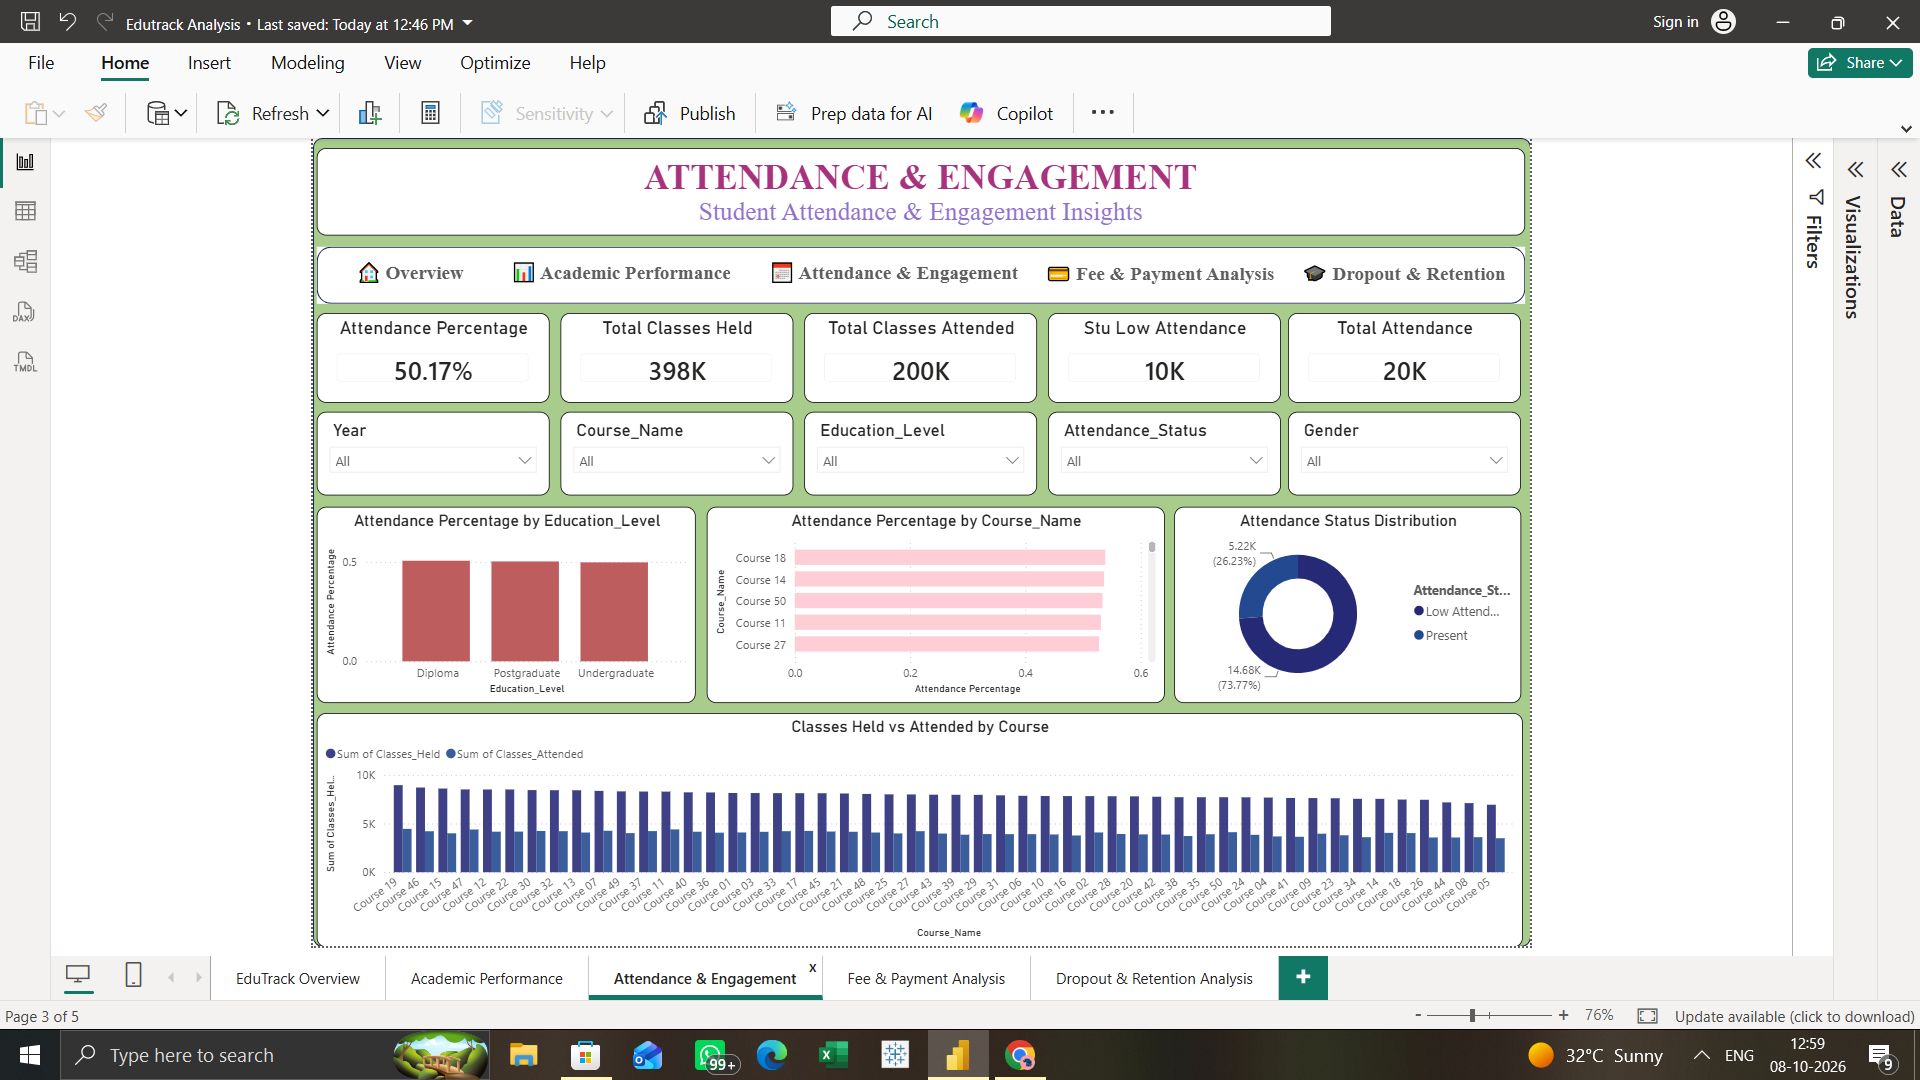

The page's visual inventory and layout, read from the dashboard file:
{"tool":"powerbi","page":{"name":"Attendance & Engagement","canvas":[1280,850],"ordinal":2},"visuals":[{"type":"shape","box":[0,0,1280.4,850.3],"z":0},{"type":"textbox","box":[3.6,10.9,1270.4,91.7],"z":1000},{"type":"shape","box":[4.3,113.9,1270.4,59.8],"z":2000},{"type":"actionButton","box":[0,113.9,205.1,49.8],"z":3000},{"type":"actionButton","box":[196.5,113.9,253.5,49.8],"z":4000},{"type":"actionButton","box":[470,113.9,280.6,49.8],"z":5000},{"type":"actionButton","box":[762,119.6,256.4,42.7],"z":6000},{"type":"actionButton","box":[1018.4,118.2,256.4,45.6],"z":7000},{"type":"cardVisual","title":"Attendance Percentage","fields":{"Data":["DateTable.Attendance Percentage"]},"box":[4.3,183.7,245,94],"z":8000},{"type":"cardVisual","title":"Total Classes Held","fields":{"Data":["DateTable.Total Classes"]},"box":[260.6,183.7,245,94],"z":9000},{"type":"cardVisual","title":"Total Classes Attended","fields":{"Data":["DateTable.Total Attended"]},"box":[517,183.7,245,94],"z":10000},{"type":"cardVisual","title":"Stu Low Attendance","fields":{"Data":["DateTable.low attendance"]},"box":[773.4,183.7,245,94],"z":11000},{"type":"cardVisual","title":"Total Attendance","fields":{"Data":["DateTable.Total Attendance"]},"box":[1025.5,183.7,245,94],"z":12000},{"type":"slicer","fields":{"Values":["DateTable.Date.Variation.Date Hierarchy.Year"]},"box":[4.3,287.7,245,88.3],"z":13000},{"type":"slicer","fields":{"Values":["edutrack students.Gender"]},"box":[1025.5,287.7,245,88.3],"z":14000},{"type":"slicer","fields":{"Values":["edutrack courses.Course_Name"]},"box":[260.6,287.7,245,88.3],"z":15000},{"type":"slicer","fields":{"Values":["edutrack students.Education_Level"]},"box":[517,287.7,245,88.3],"z":16000},{"type":"slicer","fields":{"Values":["edutrack attendance.Attendance_Status"]},"box":[773.4,287.7,245,88.3],"z":17000},{"type":"barChart","fields":{"Category":["edutrack courses.Course_Name"],"Y":["DateTable.Attendance Percentage"]},"box":[414.5,387.4,481.4,206.5],"z":18000},{"type":"columnChart","fields":{"Category":["edutrack students.Education_Level"],"Y":["DateTable.Attendance Percentage"]},"box":[4.3,387.4,398.8,206.5],"z":19000},{"type":"clusteredColumnChart","title":"Classes Held vs Attended by Course","fields":{"Y":["Sum(edutrack attendance.Classes_Held)","Sum(edutrack attendance.Classes_Attended)"],"Category":["edutrack courses.Course_Name"]},"box":[4.3,603.9,1267.6,246.4],"z":20000},{"type":"donutChart","title":"Attendance Status Distribution","fields":{"Category":["edutrack attendance.Attendance_Status"],"Y":["CountNonNull(edutrack attendance.Attendance_ID)"]},"box":[905.8,387.4,364.6,206.5],"z":21000}]}

Visuals, with their boxes on the page's 1280x850 design canvas (x1, y1, x2, y2). These are canvas units, not pixel positions in the 1920x1080 screenshot, which may show the page scaled, cropped or inside an application window:
shape: (x1=0, y1=0, x2=1280, y2=850)
textbox: (x1=4, y1=11, x2=1274, y2=103)
shape: (x1=4, y1=114, x2=1275, y2=174)
actionButton: (x1=0, y1=114, x2=205, y2=164)
actionButton: (x1=196, y1=114, x2=450, y2=164)
actionButton: (x1=470, y1=114, x2=751, y2=164)
actionButton: (x1=762, y1=120, x2=1018, y2=162)
actionButton: (x1=1018, y1=118, x2=1275, y2=164)
"Attendance Percentage" cardVisual: (x1=4, y1=184, x2=249, y2=278)
"Total Classes Held" cardVisual: (x1=261, y1=184, x2=506, y2=278)
"Total Classes Attended" cardVisual: (x1=517, y1=184, x2=762, y2=278)
"Stu Low Attendance" cardVisual: (x1=773, y1=184, x2=1018, y2=278)
"Total Attendance" cardVisual: (x1=1026, y1=184, x2=1270, y2=278)
slicer - DateTable.Date.Variation.Date Hierarchy.Year: (x1=4, y1=288, x2=249, y2=376)
slicer - edutrack students.Gender: (x1=1026, y1=288, x2=1270, y2=376)
slicer - edutrack courses.Course_Name: (x1=261, y1=288, x2=506, y2=376)
slicer - edutrack students.Education_Level: (x1=517, y1=288, x2=762, y2=376)
slicer - edutrack attendance.Attendance_Status: (x1=773, y1=288, x2=1018, y2=376)
barChart - edutrack courses.Course_Name x DateTable.Attendance Percentage: (x1=414, y1=387, x2=896, y2=594)
columnChart - edutrack students.Education_Level x DateTable.Attendance Percentage: (x1=4, y1=387, x2=403, y2=594)
"Classes Held vs Attended by Course" clusteredColumnChart: (x1=4, y1=604, x2=1272, y2=850)
"Attendance Status Distribution" donutChart: (x1=906, y1=387, x2=1270, y2=594)
